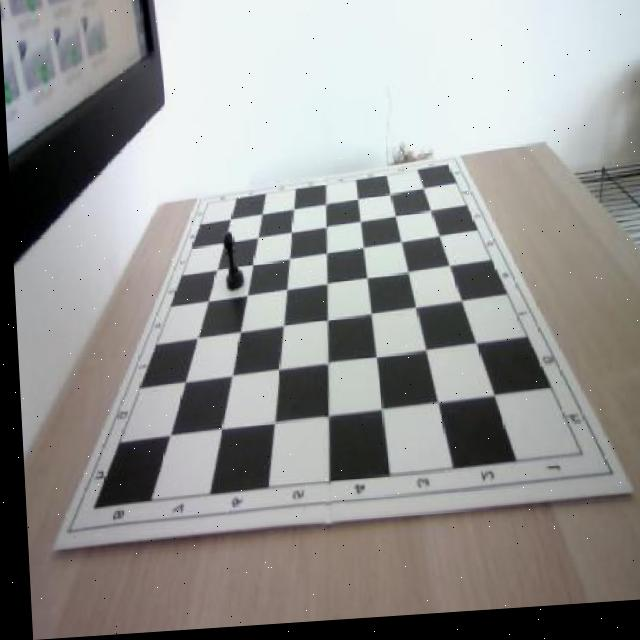black-knight: (220, 234, 241, 294)
